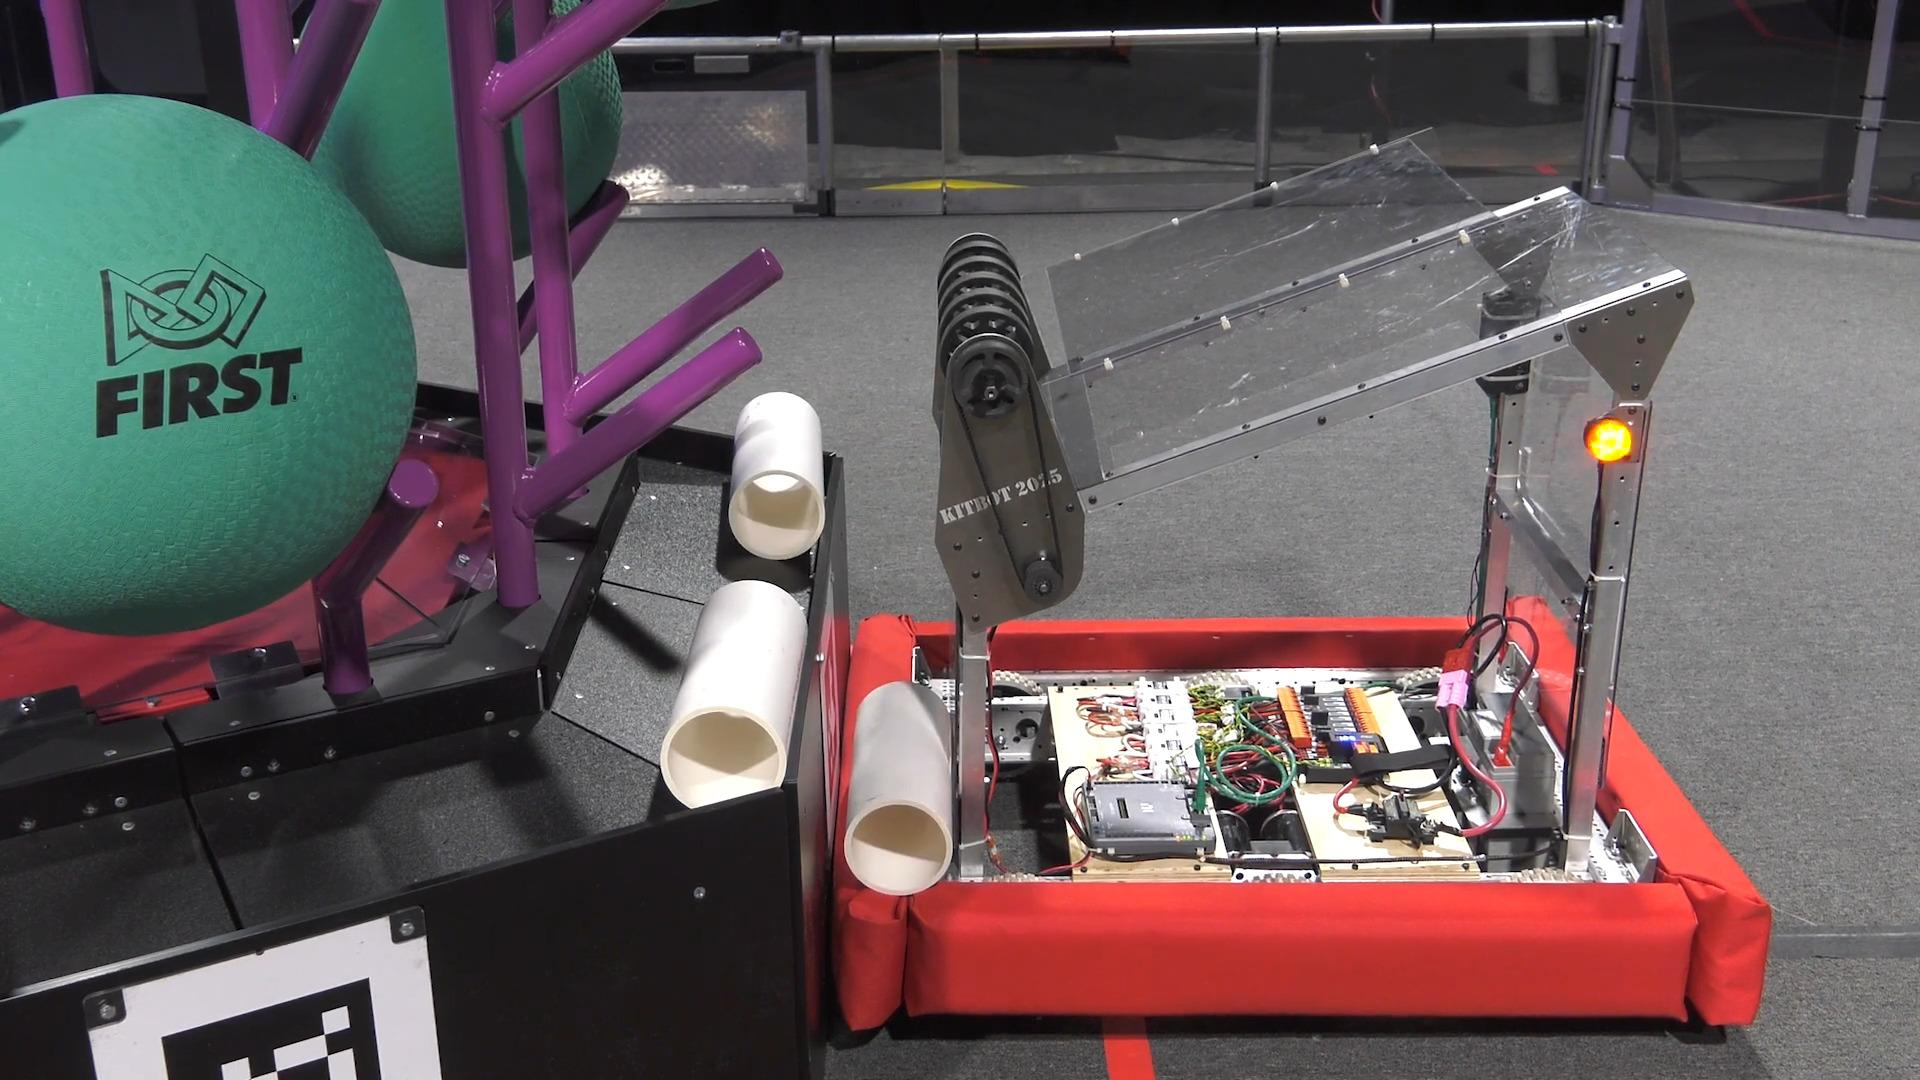coral: (657, 578, 808, 810), (841, 678, 956, 895), (725, 389, 825, 560)
